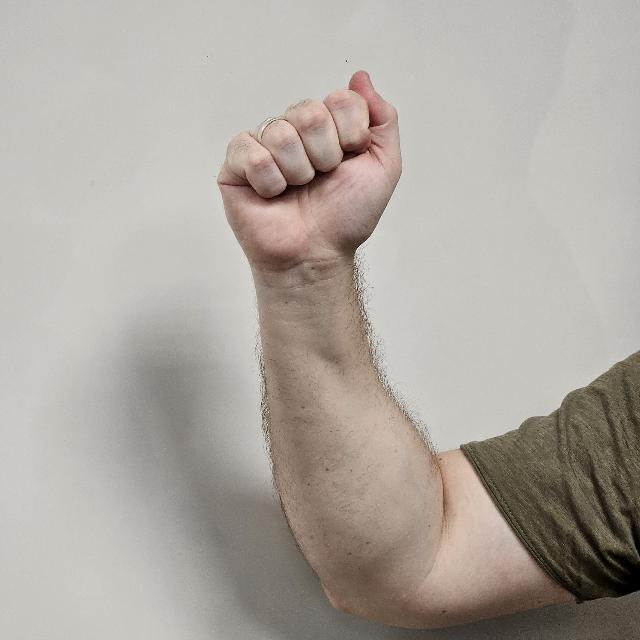Quadro: (219, 72, 407, 276)
